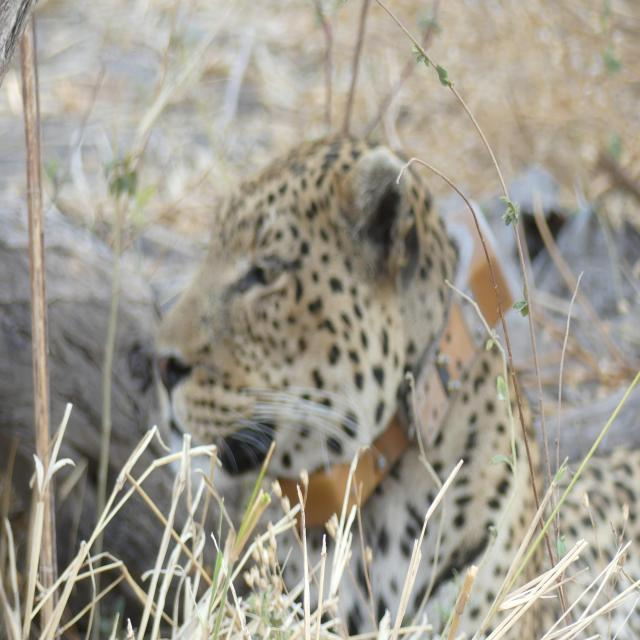Leopard: (121, 147, 640, 640)
